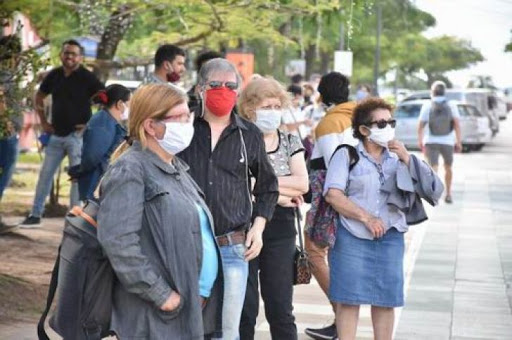barbijo: (150, 117, 194, 157), (197, 85, 241, 119), (244, 104, 284, 132)
